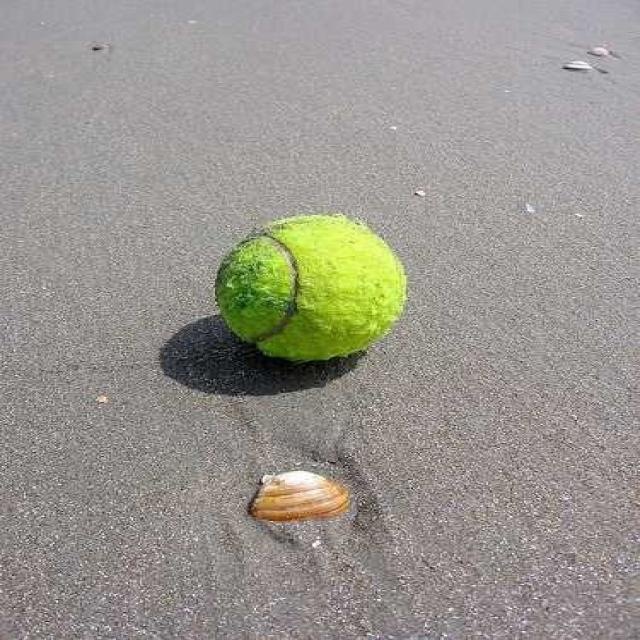Tennis_Ball: (220, 215, 412, 366)
